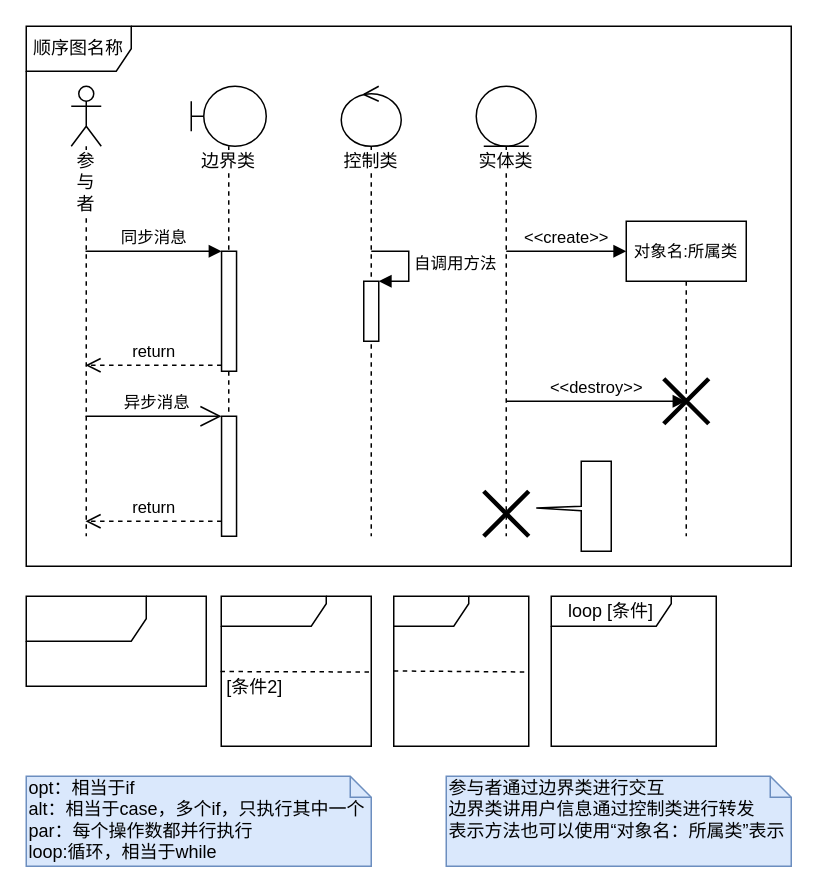
The diagram is 818 pixels wide and 893 high, and some of its shapes have lost their labels. Each missing label, with the centre of its shape:
alt [条件1]: (x=295, y=670)
opt [条件]: (x=115, y=640)
par: (x=460, y=670)
自身销毁: (x=573, y=505)
